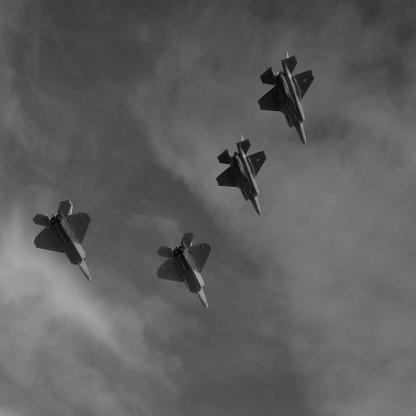F22: (33, 201, 93, 284), (156, 232, 213, 310)
F35: (258, 52, 316, 148), (216, 135, 268, 217)
